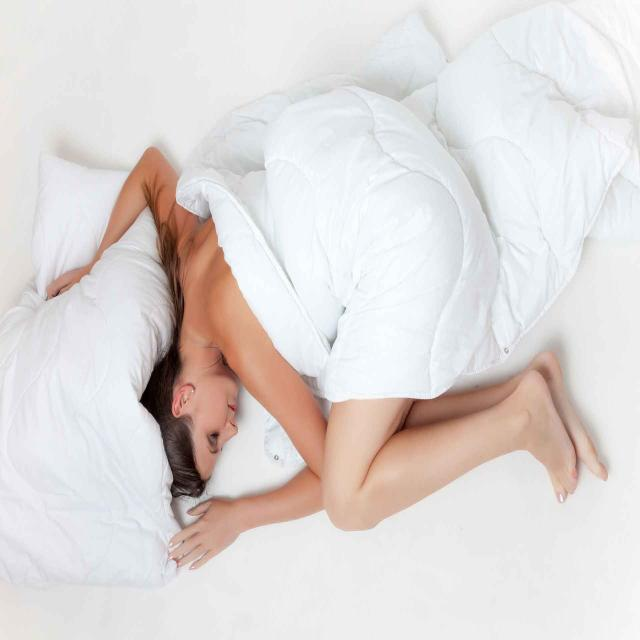sleeping-person: (24, 99, 622, 584)
